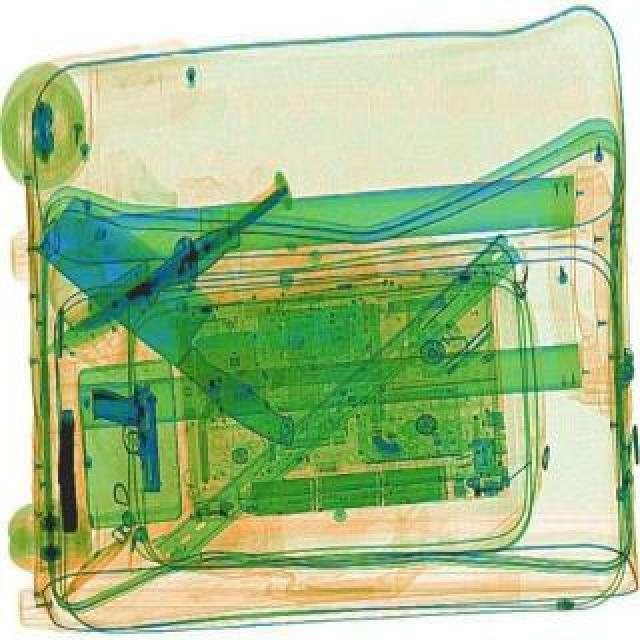gun: (88, 378, 162, 496), (56, 410, 76, 530)
knife: (20, 190, 336, 454), (68, 186, 292, 338), (28, 214, 248, 364)
